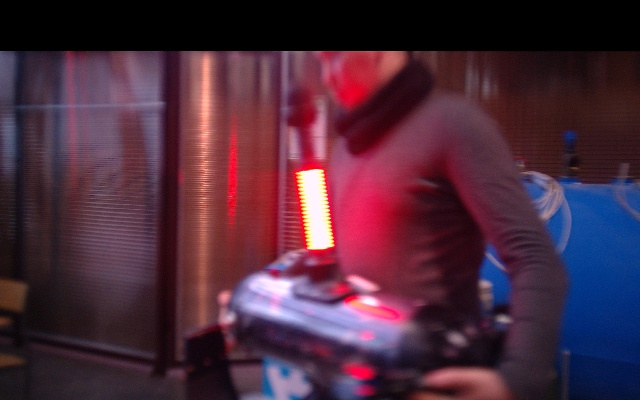red: (294, 168, 338, 251)
